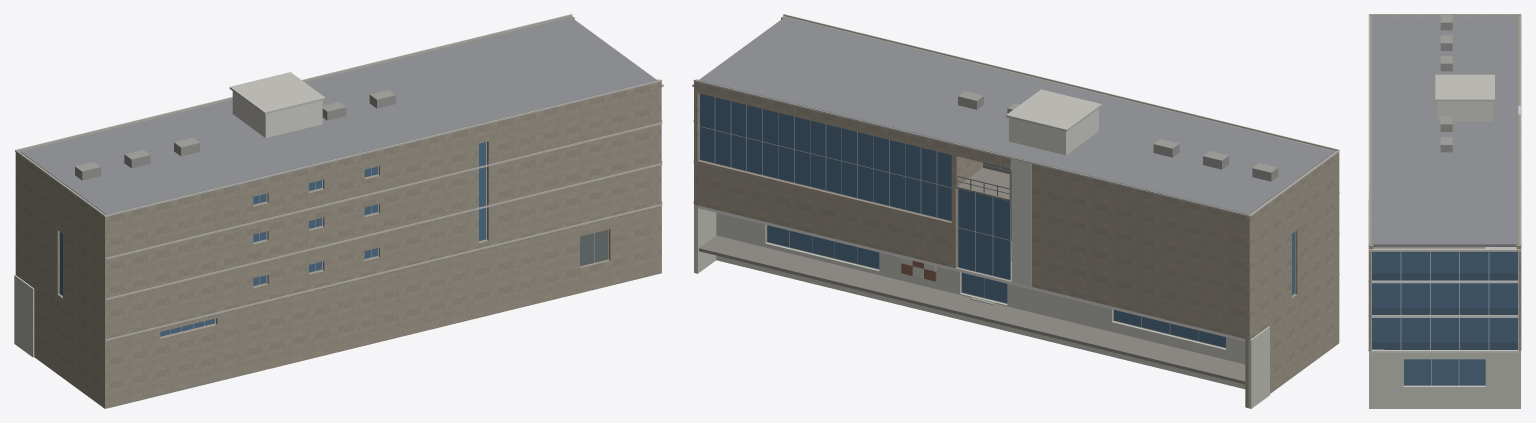
3 renders of one model, left to right at view 1: azimuth 30°, elevation 25°; view 2: azimuth 150°, elevation 25°; view 3: azimuth 270°, elevation 25°, orthographic. The views are drawn at different scales.
Visible parts, largest first — view 1: s13__board-concrete-wall, s13__roof, s13__trim, s13__glass, s13__core-white-wall, s13__ac, s13__white-wall, s13__steel-door, s13__frame; view 2: s13__board-concrete-wall, s13__roof, s13__curtain-glass, s13__white-wall, s13__floor-slab, s13__trim, s13__core-white-wall, s13__glass, s13__mullion, s13__soffit-membrane, s13__ac, s13__door-glass (+1 smaller); view 3: s13__roof, s13__curtain-glass, s13__white-wall, s13__trim, s13__spandrel-glass, s13__board-concrete-wall, s13__door-glass, s13__band-white, s13__core-white-wall, s13__ac, s13__mullion, s13__floor-slab (+1 smaller).
Boxes of the visible parts, x1,y1,x2,y2 form: s13__board-concrete-wall: (15, 16, 661, 408); s13__roof: (20, 17, 657, 214); s13__trim: (15, 14, 663, 341); s13__glass: (60, 142, 486, 336); s13__core-white-wall: (232, 91, 322, 137); s13__ac: (75, 90, 395, 180); s13__white-wall: (14, 206, 661, 357); s13__steel-door: (580, 229, 608, 266); s13__frame: (59, 142, 608, 337); s13__board-concrete-wall: (694, 16, 1339, 407); s13__roof: (698, 17, 1334, 214); s13__curtain-glass: (700, 93, 1010, 280); s13__white-wall: (694, 204, 1269, 408); s13__floor-slab: (699, 168, 1245, 384); s13__trim: (692, 14, 1339, 274); s13__core-white-wall: (1009, 108, 1098, 286); s13__glass: (767, 163, 1294, 347); s13__mullion: (699, 93, 1010, 280); s13__soffit-membrane: (698, 205, 1245, 341); s13__ac: (958, 91, 1278, 181); s13__door-glass: (962, 272, 1007, 303); s13__roof: (1371, 16, 1518, 246); s13__curtain-glass: (1372, 252, 1517, 342); s13__white-wall: (1369, 247, 1520, 408); s13__trim: (1368, 14, 1521, 351); s13__spandrel-glass: (1372, 273, 1517, 349); s13__board-concrete-wall: (1369, 15, 1521, 350); s13__door-glass: (1404, 359, 1485, 385); s13__band-white: (1371, 280, 1518, 352); s13__core-white-wall: (1437, 101, 1520, 121); s13__ac: (1440, 15, 1452, 152); s13__mullion: (1371, 252, 1518, 349); s13__floor-slab: (1373, 247, 1485, 248).
Bounding box in the file's own units: 58.92 × 22.05 × 16.44.
Materials: 22 (1 with a texture image).
